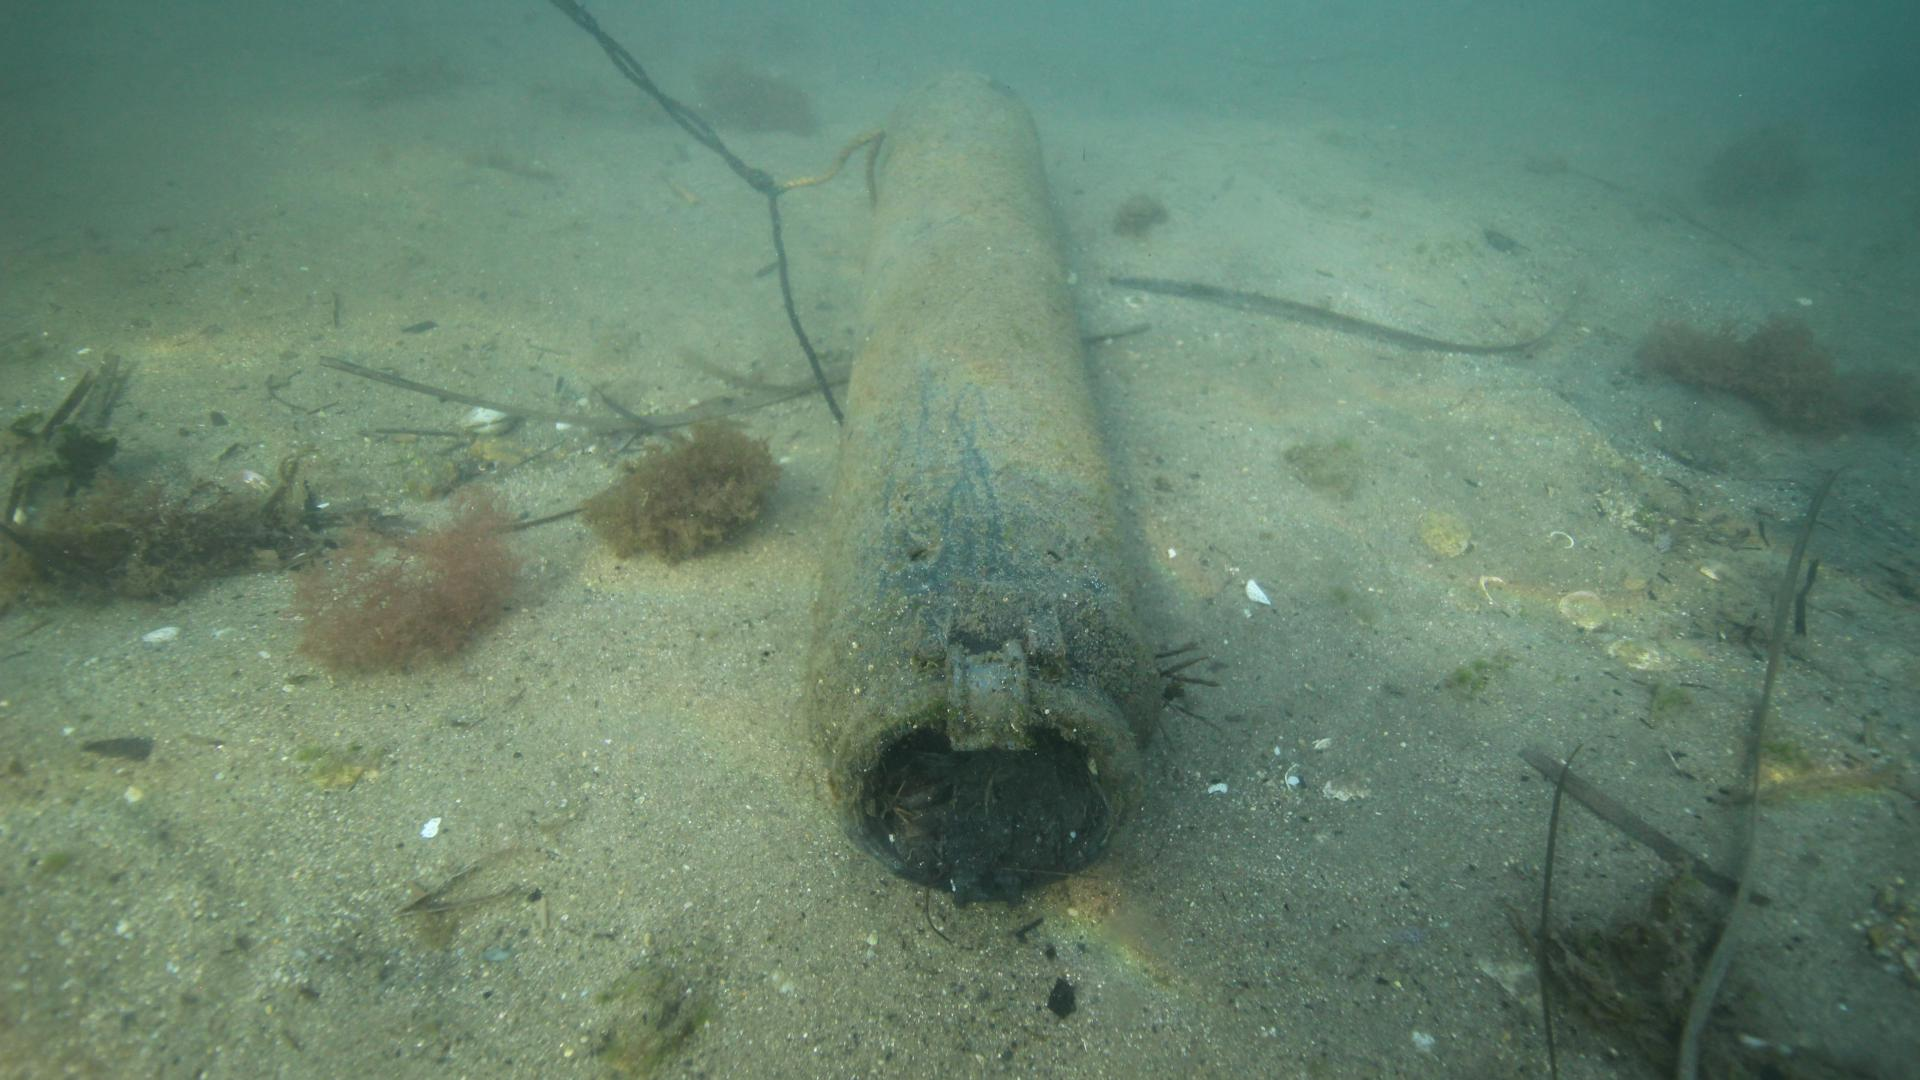eel fish trap: (794, 73, 1163, 897)
rope: (550, 0, 882, 430)
